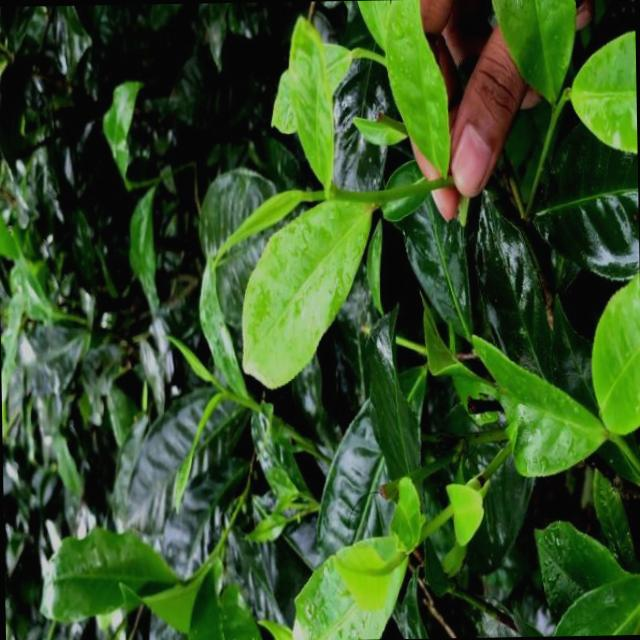Stem: (332, 187, 351, 200)
